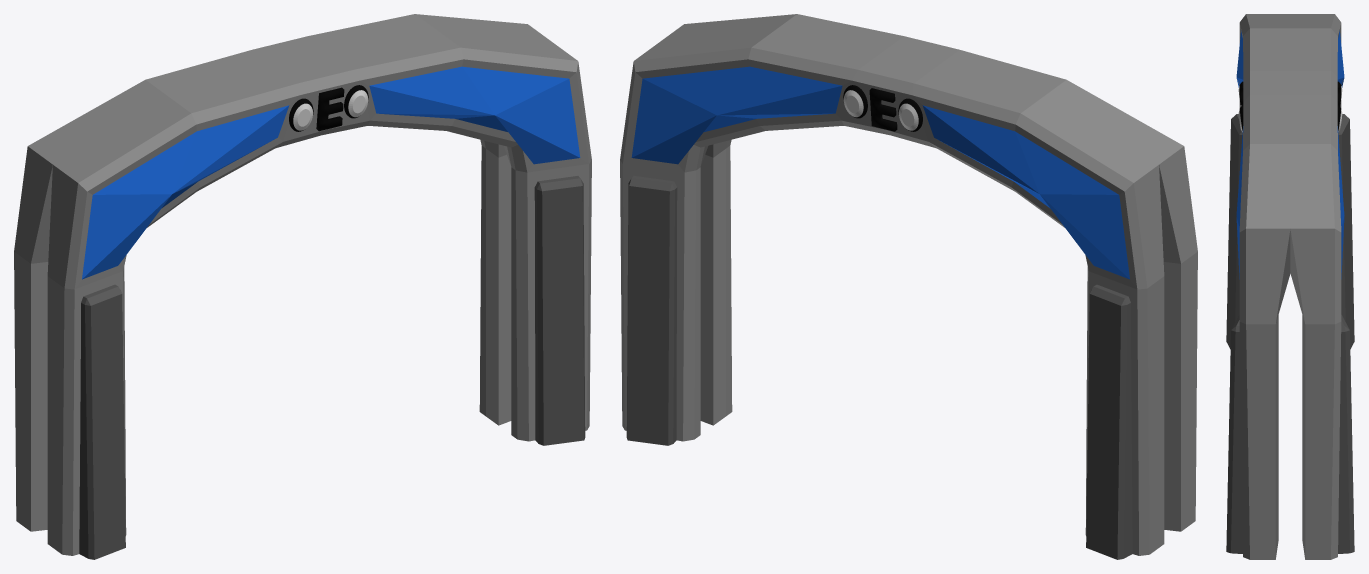
The model's file is Sifi_SlidingDoor.fbx.
3 views of the same model, side by side, from view 1: azimuth 30°, elevation 25°; view 2: azimuth 150°, elevation 25°; view 3: azimuth 270°, elevation 25° (orthographic). The views are drawn at different scales.
Visible parts, largest first — view 1: Scifi_DoorFrame; view 2: Scifi_DoorFrame; view 3: Scifi_DoorFrame.
Part boxes in pixels (x1=…): Scifi_DoorFrame: x1=14, y1=14, x2=591, y2=559; Scifi_DoorFrame: x1=620, y1=14, x2=1197, y2=559; Scifi_DoorFrame: x1=1226, y1=14, x2=1354, y2=559.
Size of the model in its own units: 1334 by 1015 by 319.
